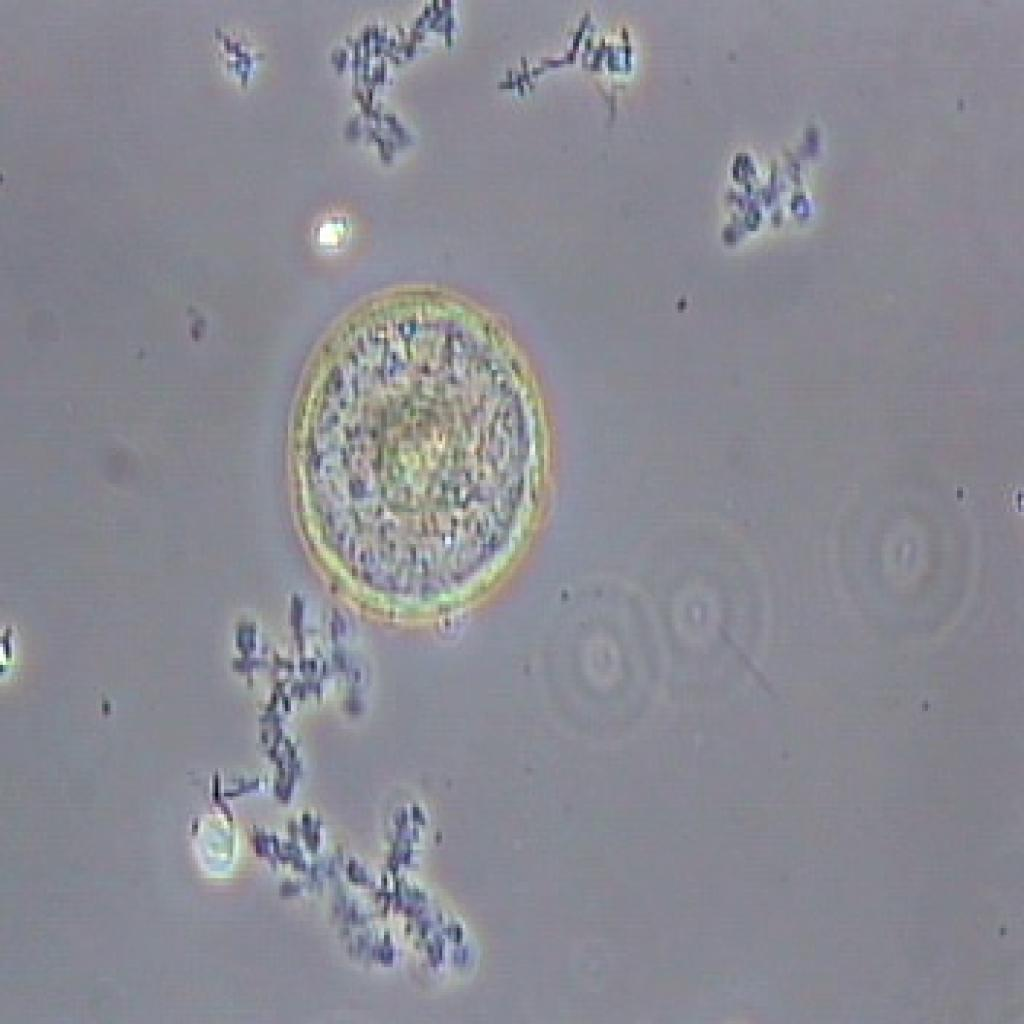Arcella: (260, 283, 560, 624)
